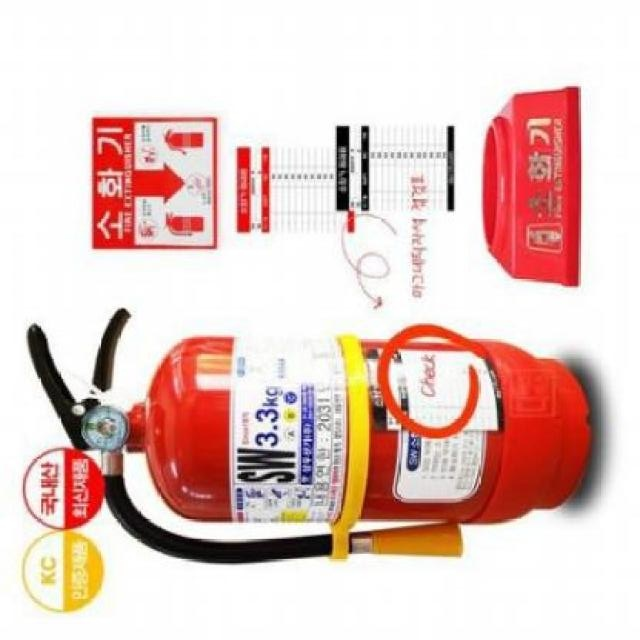fire extinguisher: (26, 306, 591, 566)
